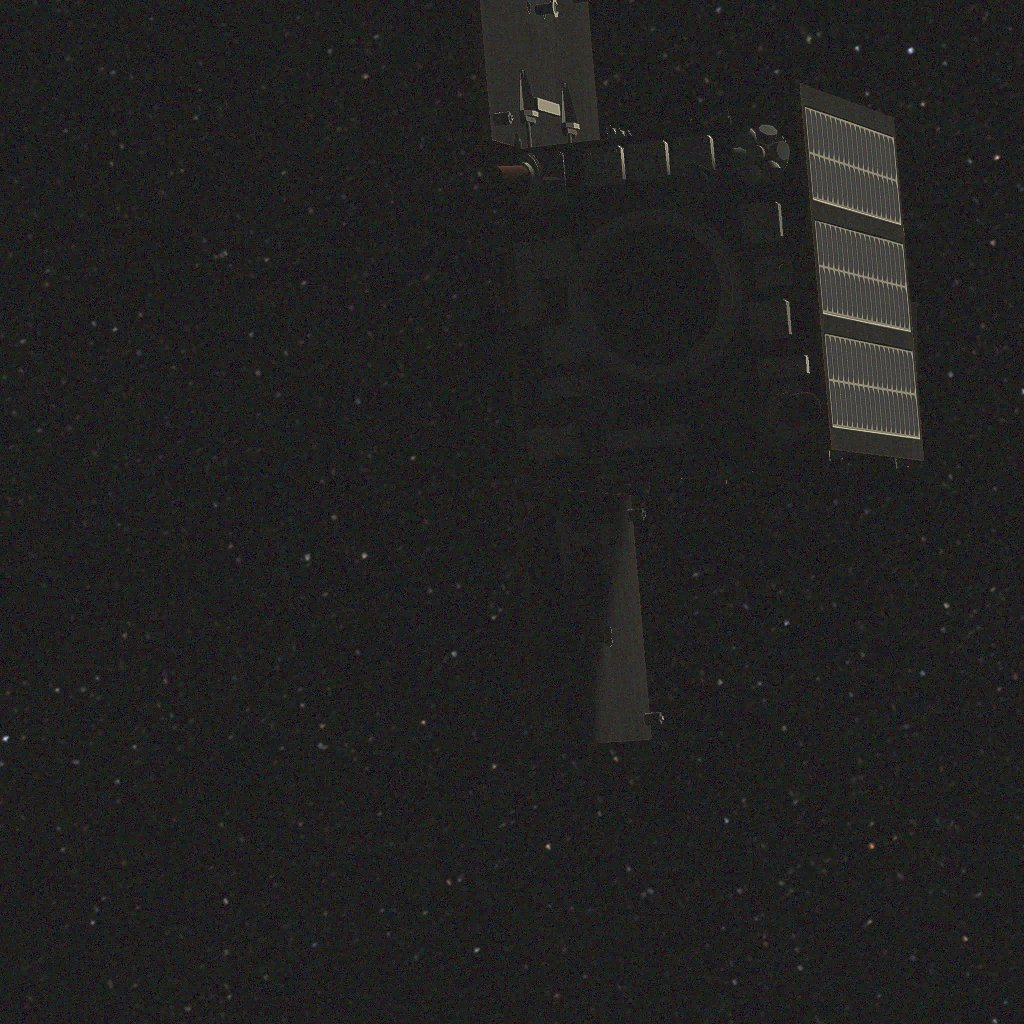proba_2: (470, 0, 924, 747)
